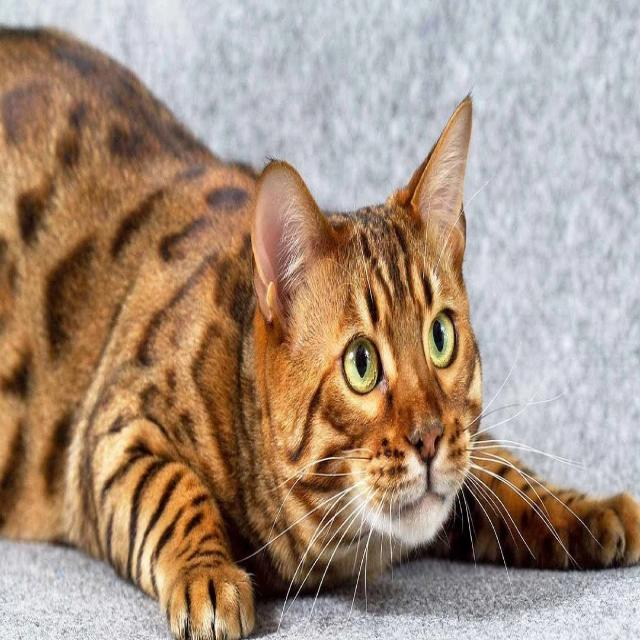Toyger: (0, 13, 640, 640)
